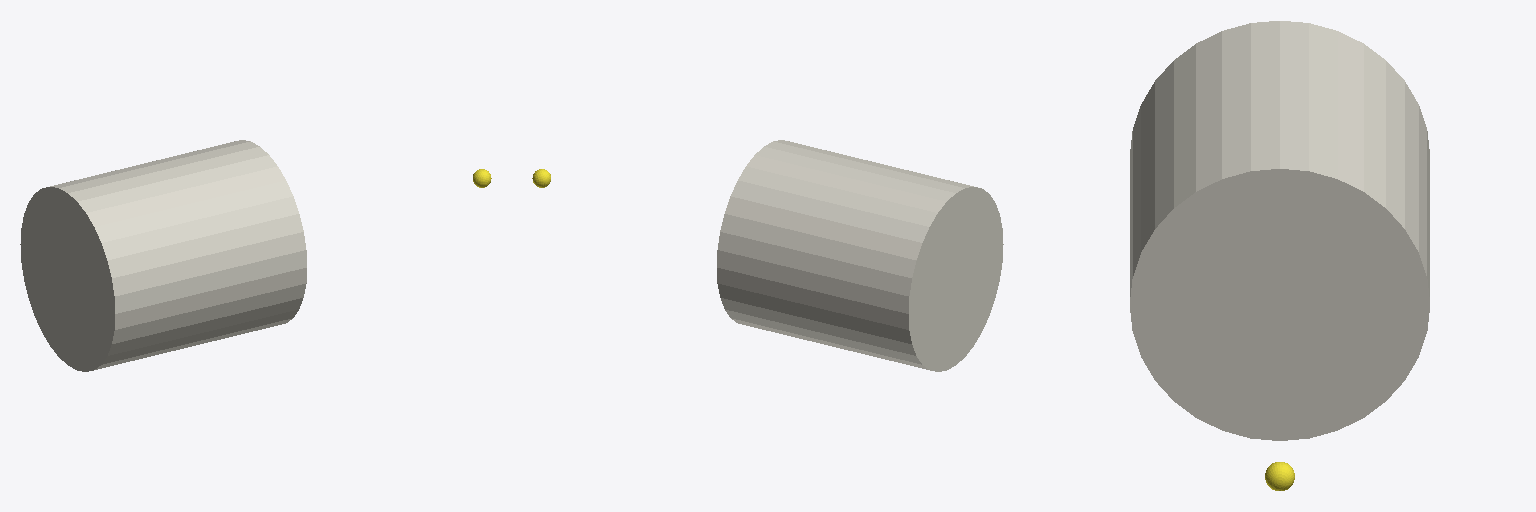
The robot description file, URDF, robot "LRMate":
<?xml version="1.0"?>
<robot name="LRMate">
	<material name="Yellow">
		<color rgba="1.0  1.0  0.0  1.0"/>
	</material>
	<material name="Black">
		<color rgba="0.0  0.0  0.0  1.0"/>
	</material>
	<material name="Gray">
		<color rgba="0.5  0.5  0.5  1.0"/>
	</material>
	<material name="White">
		<color rgba="1.0  1.0  1.0  1.0"/>
	</material>

	<link name="base">
		<inertial>
			<origin xyz="0.0  0.0  0.0" rpy="0.0  0.0  0.0"/>
			<mass value="0.0"/>
			<inertia ixx="0.0"  ixy="0.0"  ixz="0.0" iyy="0.0" iyz="0.0" izz="0.0" />
		</inertial>
		<visual name="base">
			<origin xyz="0.000   0.000   0.330" rpy="0.0  0.0  0.0"/>
			<geometry>
				<mesh filename="CAD/base.stl" scale="0.001   0.001   0.001"/>
			</geometry>
			<material name="Gray"/>
		</visual>
		<collision>
			<origin xyz="0.000   0.000   0.330" rpy="0.0  0.0  0.0"/>
			<geometry>
				<mesh filename="CAD/base.stl" scale="0.001   0.001   0.001"/>
			</geometry>
		</collision>
	</link>
	<joint name="joint_1" type="revolute">
		<origin xyz="0.000   0.000   0.330" rpy="0.0000000000000000    0.0000000000000000    0.0000000000000000"/>
		<parent link="base"/>
		<child link="link_1"/>
		<axis xyz="0 0 1"/>
		<limit effort="224.1470270270270646" lower="-3.1415926535897931" upper="3.1415926535897931" velocity="0.8726646259971648"/>
	</joint>
	<link name="link_1">
		<inertial>
			<origin xyz="0.0185909590000000    0.0033700950000000   -0.0770907100000000" rpy="-1.5707963267948966    0.0000000000000000    0.0000000000000000"/>
			<mass value="2.3984700000000001"/>
			<inertia ixx="0.0233179728630000"  ixy="0.0000000000000000"  ixz="0.0000000000000000" iyy="0.0193776178710000" iyz="0.0000000000000000" izz="0.0139141526340000" />
		</inertial>
		<visual name="link_1">
			<origin xyz="0.050   0.000   0.000" rpy="-1.5707963267948966    0.0000000000000000    0.0000000000000000"/>
			<geometry>
				<mesh filename="CAD/link1.stl" scale="0.001   0.001   0.001"/>
			</geometry>
			<material name="Yellow"/>
		</visual>
		<collision>
			<origin xyz="0.050   0.000   0.000" rpy="-1.5707963267948966    0.0000000000000000    0.0000000000000000"/>
			<geometry>
				<mesh filename="CAD/link1.stl" scale="0.001   0.001   0.001"/>
			</geometry>
		</collision>
	</link>
	<joint name="joint_2" type="revolute">
		<origin xyz="0.050   0.000   0.000" rpy="-1.5707963267948966    0.0000000000000000    0.0000000000000000"/>
		<parent link="link_1"/>
		<child link="link_2"/>
		<axis xyz="0 0 1"/>
		<limit effort="236.6760000000000161" lower="-3.1415926535897931" upper="3.1415926535897931" velocity="0.8726646259971648"/>
	</joint>
	<link name="link_2">
		<inertial>
			<origin xyz="-0.0071079890000000   -0.1326139250000000    0.0247800790000000" rpy="3.1415926535897931    0.0000000000000000   -1.5707963267948966"/>
			<mass value="7.8018689999999999"/>
			<inertia ixx="0.0328971739050000"  ixy="0.0000000000000000"  ixz="0.0000000000000000" iyy="0.2070365793270000" iyz="0.0000000000000000" izz="0.1883991938960000" />
		</inertial>
		<visual name="link_2">
			<origin xyz="0.000  -0.440   0.000" rpy="3.1415926535897931    0.0000000000000000   -1.5707963267948966"/>
			<geometry>
				<mesh filename="CAD/link2.stl" scale="0.001   0.001   0.001"/>
			</geometry>
			<material name="Yellow"/>
		</visual>
		<collision>
			<origin xyz="0.000  -0.440   0.000" rpy="3.1415926535897931    0.0000000000000000   -1.5707963267948966"/>
			<geometry>
				<mesh filename="CAD/link2.stl" scale="0.001   0.001   0.001"/>
			</geometry>
		</collision>
	</link>
	<joint name="joint_3" type="revolute">
		<origin xyz="0.000  -0.440   0.000" rpy="3.1415926535897931    0.0000000000000000   -1.5707963267948966"/>
		<parent link="link_2"/>
		<child link="link_3"/>
		<axis xyz="0 0 1"/>
		<limit effort="94.9241379310344939" lower="-3.1415926535897931" upper="3.1415926535897931" velocity="0.8726646259971648"/>
	</joint>
	<link name="link_3">
		<inertial>
			<origin xyz="0.0057931330000000   -0.0059066300000000   -0.0207324280000000" rpy="-1.5707963267948966    0.0000000000000000    0.0000000000000000"/>
			<mass value="2.9847210000000000"/>
			<inertia ixx="0.0081019474240000"  ixy="0.0000000000000000"  ixz="0.0000000000000000" iyy="0.0068697082660000" iyz="0.0000000000000000" izz="0.0079818513480000" />
		</inertial>
		<visual name="link_3">
			<origin xyz="0.035   0.000   0.000" rpy="-1.5707963267948966    0.0000000000000000    0.0000000000000000"/>
			<geometry>
				<mesh filename="CAD/link3.stl" scale="0.001   0.001   0.001"/>
			</geometry>
			<material name="Yellow"/>
		</visual>
		<collision>
			<origin xyz="0.035   0.000   0.000" rpy="-1.5707963267948966    0.0000000000000000    0.0000000000000000"/>
			<geometry>
				<mesh filename="CAD/link3.stl" scale="0.001   0.001   0.001"/>
			</geometry>
		</collision>
	</link>
	<joint name="joint_4" type="revolute">
		<origin xyz="0.035   0.000   0.000" rpy="-1.5707963267948966    0.0000000000000000    0.0000000000000000"/>
		<parent link="link_3"/>
		<child link="link_4"/>
		<axis xyz="0 0 1"/>
		<limit effort="23.8998260869565229" lower="-3.1415926535897931" upper="3.1415926535897931" velocity="0.8726646259971648"/>
	</joint>
	<link name="link_4">
		<inertial>
			<origin xyz="-0.0002457140000000    0.0028224150000000   -0.2060611280000000" rpy="1.5707963267948966    0.0000000000000000    0.0000000000000000"/>
			<mass value="4.1441780000000001"/>
			<inertia ixx="0.0529101059260000"  ixy="0.0000000000000000"  ixz="0.0000000000000000" iyy="0.0057046189630000" iyz="0.0000000000000000" izz="0.0531509714450000" />
		</inertial>
		<visual name="link_4">
			<origin xyz="0.000   0.000  -0.420" rpy="1.5707963267948966    0.0000000000000000    0.0000000000000000"/>
			<geometry>
				<mesh filename="CAD/link4.stl" scale="0.001   0.001   0.001"/>
			</geometry>
			<material name="Yellow"/>
		</visual>
		<collision>
			<origin xyz="0.000   0.000  -0.420" rpy="1.5707963267948966    0.0000000000000000    0.0000000000000000"/>
			<geometry>
				<mesh filename="CAD/link4.stl" scale="0.001   0.001   0.001"/>
			</geometry>
		</collision>
	</link>
	<joint name="joint_5" type="revolute">
		<origin xyz="0.000   0.000  -0.420" rpy="1.5707963267948966    0.0000000000000000    0.0000000000000000"/>
		<parent link="link_4"/>
		<child link="link_5"/>
		<axis xyz="0 0 1"/>
		<limit effort="13.8166666666666664" lower="-3.1415926535897931" upper="3.1415926535897931" velocity="0.8726646259971648"/>
	</joint>
	<link name="link_5">
		<inertial>
			<origin xyz="0.0000480440000000   -0.0273839680000000   -0.0044381510000000" rpy="-1.5707963267948966    0.0000000000000000    0.0000000000000000"/>
			<mass value="1.7004200000000000"/>
			<inertia ixx="0.0024795564500000"  ixy="0.0000000000000000"  ixz="0.0000000000000000" iyy="0.0024375453070000" iyz="0.0000000000000000" izz="0.0012003431970000" />
		</inertial>
		<visual name="link_5">
			<origin xyz="0.000   0.000   0.000" rpy="-1.5707963267948966    0.0000000000000000    0.0000000000000000"/>
			<geometry>
				<mesh filename="CAD/link5.stl" scale="0.001   0.001   0.001"/>
			</geometry>
			<material name="Yellow"/>
		</visual>
		<collision>
			<origin xyz="0.000   0.000   0.000" rpy="-1.5707963267948966    0.0000000000000000    0.0000000000000000"/>
			<geometry>
				<mesh filename="CAD/link5.stl" scale="0.001   0.001   0.001"/>
			</geometry>
		</collision>
	</link>
	<joint name="joint_6" type="revolute">
		<origin xyz="0.000   0.000   0.000" rpy="-1.5707963267948966    0.0000000000000000    0.0000000000000000"/>
		<parent link="link_5"/>
		<child link="link_6"/>
		<axis xyz="0 0 1"/>
		<limit effort="6.8606896551724139" lower="-3.1415926535897931" upper="3.1415926535897931" velocity="0.8726646259971648"/>
	</joint>
	<link name="link_6">
		<inertial>
			<origin xyz="-0.0001200000000000    0.0000000000000000   -0.0705300000000000" rpy="3.1415926535897931    0.0000000000000000    0.0000000000000000"/>
			<mass value="0.1700000000000000"/>
			<inertia ixx="0.0000318000000000"  ixy="0.0000000000000000"  ixz="0.0000000000000000" iyy="0.0000315000000000" iyz="0.0000000000000000" izz="0.0000542000000000" />
		</inertial>
		<visual name="link_6">
			<origin xyz="0.000   0.000  -0.080" rpy="3.1415926535897931    0.0000000000000000    0.0000000000000000"/>
			<geometry>
				<mesh filename="CAD/link6.stl" scale="0.001   0.001   0.001"/>
			</geometry>
			<material name="Black"/>
		</visual>
		<collision>
			<origin xyz="0.000   0.000  -0.080" rpy="3.1415926535897931    0.0000000000000000    0.0000000000000000"/>
			<geometry>
				<mesh filename="CAD/link6.stl" scale="0.001   0.001   0.001"/>
			</geometry>
		</collision>
	</link>


	<!-- gripper -->
	<link name="sensor">
        <inertial>
            <origin xyz="0 0 0" rpy="0 0 0"/>
            <mass value="0.5"/>
            <inertia ixx="0.0001"  ixy="0"  ixz="0" iyy="0.0001" iyz="0" izz="0.0001" />
        </inertial>

        <visual>
            <origin xyz="0 0 -0.102" rpy="0 0 0" />
            <geometry>
                <cylinder radius="0.03" length="0.07"/>
            </geometry>
            <material name="">
                <color rgba="0.86 0.85 0.81 1.0"/>
            </material>
        </visual>

        <collision>
            <origin xyz="0 0 -0.102" rpy="0 0 0"/>
            <geometry>
                <cylinder radius="0.03" length="0.07"/>
            </geometry>
        </collision>
    </link>

	<link name="gripper_hand">
		<inertial>
			<origin rpy="0 0 0" xyz="0 0 0.04"/>
			<mass value=".81"/>
			<inertia ixx="0.1" ixy="0" ixz="0" iyy="0.1" iyz="0" izz="0.1"/>
		</inertial>
		<visual>
			<geometry>
				<mesh filename="CAD/gripper_1/visual/hand.stl" scale="0.001 0.001 0.001"/>
			</geometry>
			<material name="gripper_white"/>
		</visual>
		<collision>
		<geometry>
			<mesh filename="CAD/gripper_1/collision/hand.stl" scale="0.001 0.001 0.001"/>
		</geometry>
		<material name="gripper_white"/>
		</collision>
  	</link>

  	<link name="gripper_leftfinger">
		<contact>
			<friction_anchor/>
			<stiffness value="30000.0"/>
			<damping value="1000.0"/>
			<spinning_friction value="0.1"/>
			<rolling_friction value="0.1"/>
			<lateral_friction value="1.0"/>
		</contact>
		<inertial>
			<origin rpy="0 0 0" xyz="0 0.01 0.02"/>
			<mass value="0.1"/>
			<inertia ixx="0.1" ixy="0" ixz="0" iyy="0.1" iyz="0" izz="0.1"/>
		</inertial>
		<visual>
			<geometry>
				<mesh filename="CAD/gripper_2/visual/finger_2.stl" scale="0.001 0.001 0.001"/>
			</geometry>
			<material name="gripper_white"/>
		</visual>
		<collision>
			<geometry>
				<mesh filename="CAD/gripper_2/collision/finger_2.stl" scale="0.001 0.001 0.001"/>
			</geometry>
			<material name="gripper_white"/>
		</collision>
	</link>

  	<link name="gripper_rightfinger">
    	<contact>
			<friction_anchor/>
			<stiffness value="30000.0"/>
			<damping value="1000.0"/>
			<spinning_friction value="0.1"/>
			<rolling_friction value="0.1"/>
			<lateral_friction value="1.0"/>
		</contact>

  		<inertial>
			<origin rpy="0 0 0" xyz="0 -0.01 0.02"/>
			<mass value="0.1"/>
			<inertia ixx="0.1" ixy="0" ixz="0" iyy="0.1" iyz="0" izz="0.1"/>
		</inertial>
		<visual>
			<origin rpy="0 0 3.14159265359" xyz="0 0 0"/>
			<geometry>
				<mesh filename="CAD/gripper_2/visual/finger_2.stl" scale="0.001 0.001 0.001"/>
			</geometry>
			<material name="gripper_white"/>
		</visual>
		<collision>
			<origin rpy="0 0 3.14159265359" xyz="0 0 0"/>
			<geometry>
				<mesh filename="CAD/gripper_2/collision/finger_2.stl" scale="0.001 0.001 0.001"/>
			</geometry>
			<material name="gripper_white"/>
		</collision>
  	</link>

	<joint name="joint_6-sensor" type="fixed">
        <origin rpy="0 0 0" xyz="0 0 -0.014"/>
        <parent link="link_6"/>
        <child link="sensor"/>
    </joint>

    <joint name="sensor-gripper" type="fixed">
        <origin rpy="1.5707963267948966 0.0 1.5707963267948966" xyz="0.0 0.0 -0.137"/>
        <parent link="sensor"/>
        <child link="gripper_hand"/>
    </joint>

	<joint name="gripper_finger_joint1" type="prismatic">
		<parent link="gripper_hand"/>
		<child link="gripper_leftfinger"/>
		<origin rpy="0 -1.5707963267948966 0" xyz="-0.025 -0.079 0"/>
		<axis xyz="0 0 -1"/>
		<limit effort="20" lower="0.0" upper="0.04" velocity="0.2"/>
	</joint>


	<joint name="gripper_finger_joint2" type="prismatic">
		<parent link="gripper_hand"/>
		<child link="gripper_rightfinger"/>
		<origin rpy="3.14159265359 -1.5707963267948966 0" xyz="0.025 -0.079 0"/>
		<axis xyz="0 0 -1"/>
		<limit effort="20" lower="0.0" upper="0.04" velocity="0.2"/>
		<mimic joint="gripper_finger_joint1"/>
	</joint>



	<link name="grasptarget">
     	<inertial>
      		<origin rpy="0 0 0" xyz="0 0 0"/>
       		<mass value="0.001"/>
       		<inertia ixx="0.1" ixy="0" ixz="0" iyy="0.1" iyz="0" izz="0.1"/>
    	</inertial>
    	<visual>
      		<geometry>
        		<sphere radius="0.003"/>
      		</geometry>
      		<color rgba="1. 0. 0. 1.0"/>
    	</visual>
   </link>

	<joint name="lrmate_grasptarget_hand" type="fixed">
		<parent link="gripper_hand"/>
		<child link="grasptarget"/>
		<origin rpy="1.5707963267948966 -1.5707963267948966 0" xyz="0 -0.081 0"/>
	</joint>
    
</robot>

--- Render facts (derived) ---
3 views of the same robot in one strip: view 1: azimuth 30°, elevation 25°; view 2: azimuth 150°, elevation 25°; view 3: azimuth 270°, elevation 25° (orthographic).
Model LRMate with 12 links and 11 joints (6 revolute, 2 prismatic, 3 fixed), rooted at base, posed all joints at 0.
Visible links, largest first — view 1: sensor; view 2: sensor; view 3: sensor, grasptarget.
Boxes of the visible links, x1,y1,x2,y2 form: sensor: (20,140,306,371); sensor: (717,140,1003,371); sensor: (1130,21,1429,440); grasptarget: (1265,462,1294,490).
Bounding box of the posed robot: 0.154 × 0.06 × 0.06 m (x, y, z).
0 mesh visuals loaded from 9 distinct referenced files (none loaded); not drawn: 10 (reference not matched to a file when rendering).